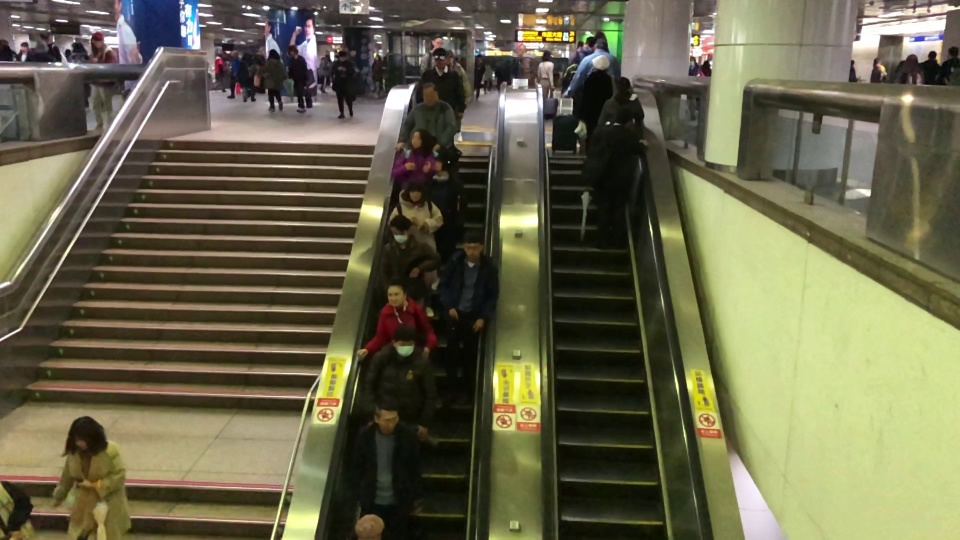person_head: (65, 415, 108, 457), (373, 396, 403, 437), (353, 516, 384, 540), (396, 326, 418, 357), (401, 179, 428, 204), (463, 232, 483, 261), (390, 214, 409, 244), (614, 98, 633, 128), (387, 279, 406, 308), (409, 129, 429, 150), (421, 83, 438, 107), (615, 76, 633, 96), (590, 54, 610, 70), (90, 31, 103, 51), (432, 48, 445, 68), (594, 37, 610, 52), (446, 50, 457, 66), (432, 35, 444, 48), (541, 48, 552, 61), (337, 50, 347, 63), (584, 34, 592, 48), (287, 46, 299, 55), (269, 48, 277, 61), (216, 50, 222, 57)
person_vbox: (38, 413, 131, 540), (444, 229, 500, 407), (358, 324, 437, 440), (355, 395, 418, 537), (590, 96, 641, 248), (355, 274, 440, 359), (402, 81, 460, 170), (370, 213, 440, 279), (411, 51, 465, 128), (388, 182, 447, 252), (575, 52, 618, 137), (1, 453, 37, 540), (564, 43, 624, 95), (86, 34, 118, 126), (596, 76, 644, 131), (331, 48, 353, 124), (448, 50, 475, 110), (289, 44, 312, 113), (261, 48, 283, 115), (416, 34, 449, 76), (538, 48, 557, 106), (576, 33, 604, 72), (688, 54, 701, 122), (227, 46, 240, 101), (921, 50, 942, 84), (943, 44, 959, 85), (494, 52, 509, 94), (868, 54, 887, 87), (242, 50, 254, 102), (906, 49, 921, 86), (214, 49, 226, 94), (370, 51, 381, 98), (320, 49, 330, 92), (476, 55, 485, 100), (485, 55, 494, 97), (0, 39, 16, 60), (892, 59, 906, 82), (15, 39, 28, 63), (849, 58, 859, 87), (874, 60, 886, 81), (73, 41, 83, 64), (702, 57, 711, 79), (63, 46, 70, 62)
